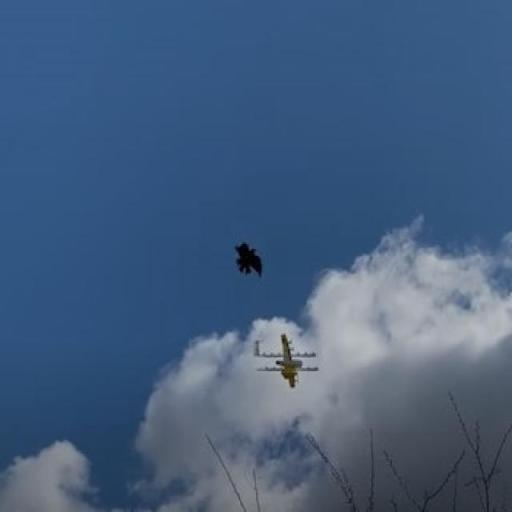uav: (244, 328, 347, 395)
